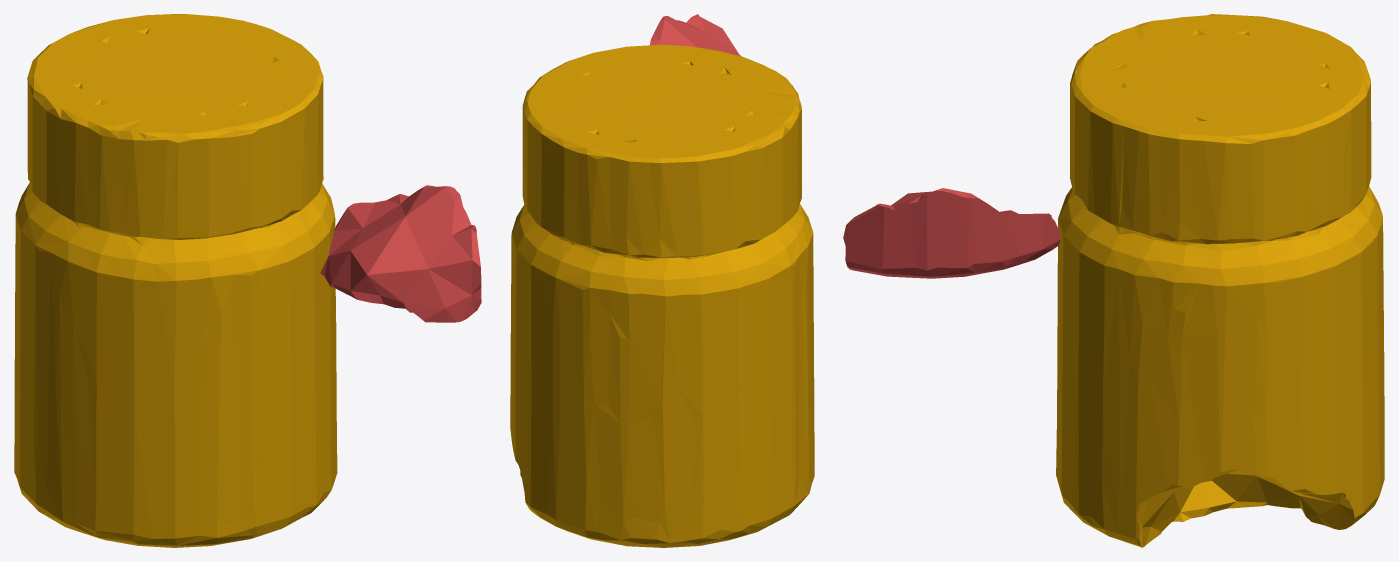
File: fractured_13_2pcs_transformed.glb
3 views of the same model, side by side, from view 1: azimuth 30°, elevation 25°; view 2: azimuth 150°, elevation 25°; view 3: azimuth 270°, elevation 25° (orthographic). The views are drawn at different scales.
Visible parts, largest first — view 1: piece_0.obj, piece_1.obj; view 2: piece_0.obj, piece_1.obj; view 3: piece_0.obj, piece_1.obj.
Boxes of the visible parts, <box> form: piece_0.obj: <box>14,14,337,547</box>; piece_1.obj: <box>320,185,481,322</box>; piece_0.obj: <box>510,44,814,547</box>; piece_1.obj: <box>650,14,740,55</box>; piece_0.obj: <box>1056,14,1384,547</box>; piece_1.obj: <box>843,188,1060,278</box>.
Size of the model in its own units: 0.7073 by 1 by 1.16.
